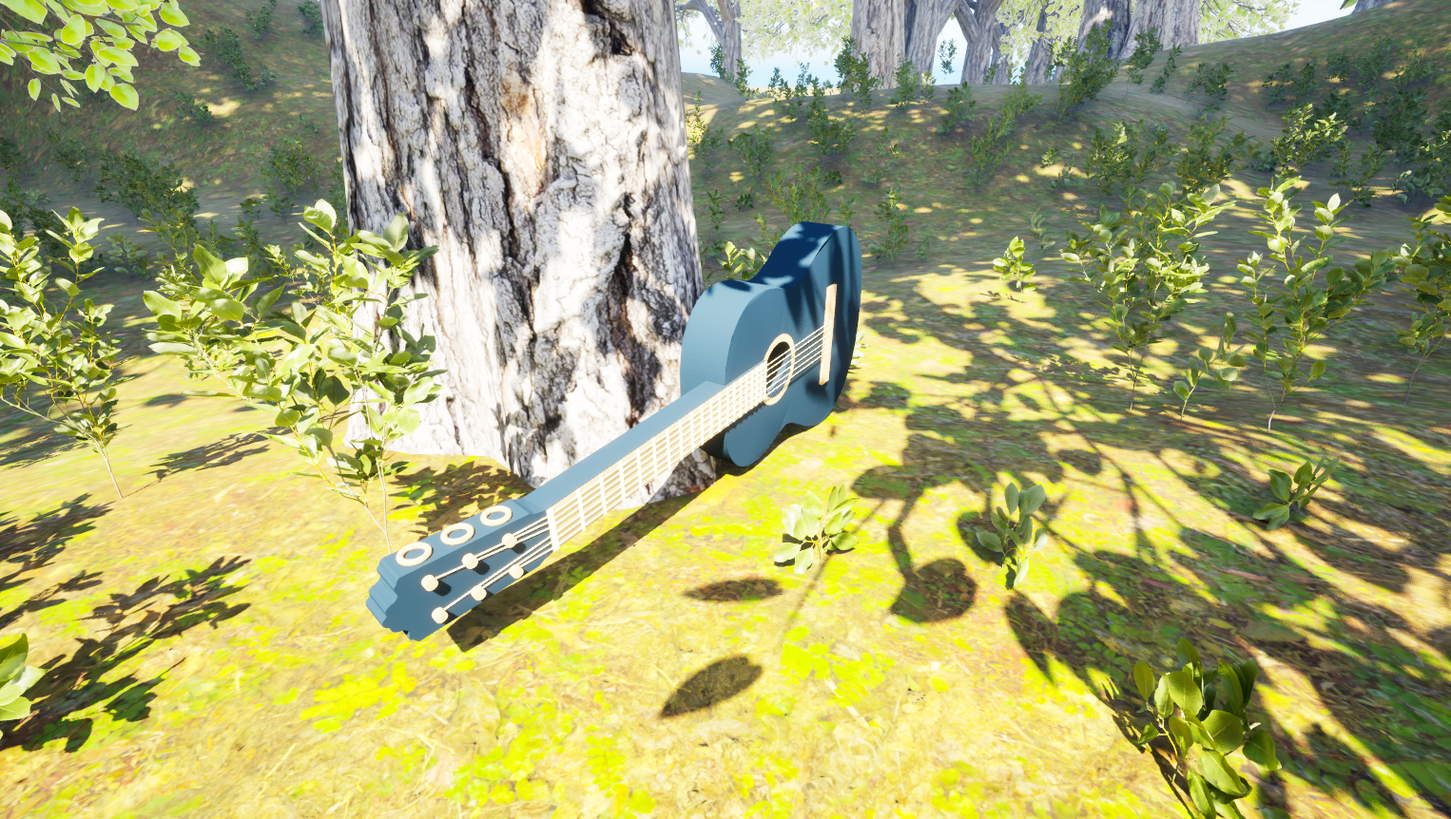Guitar: (273, 211, 874, 781)
